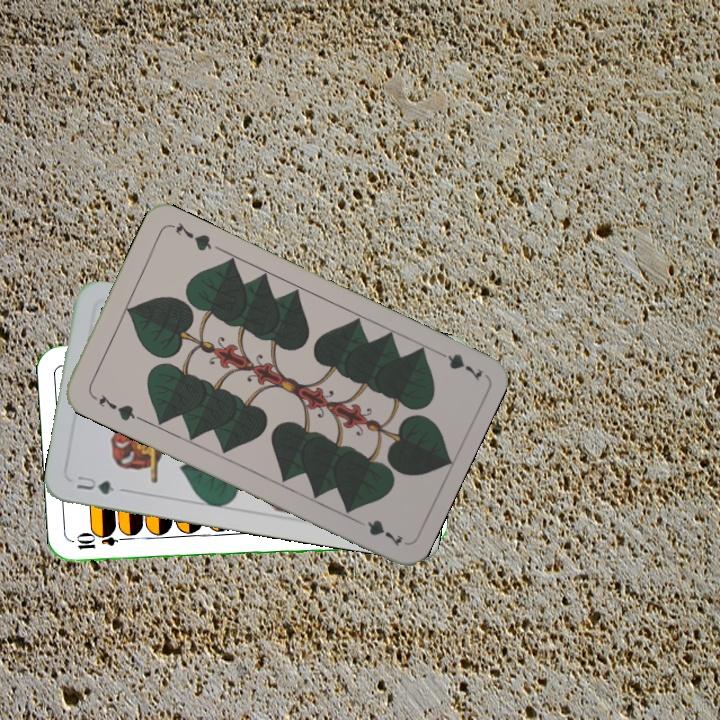E10: (72, 531, 131, 552)
G7: (429, 345, 485, 384), (87, 390, 143, 424)
GU: (73, 471, 117, 497)
